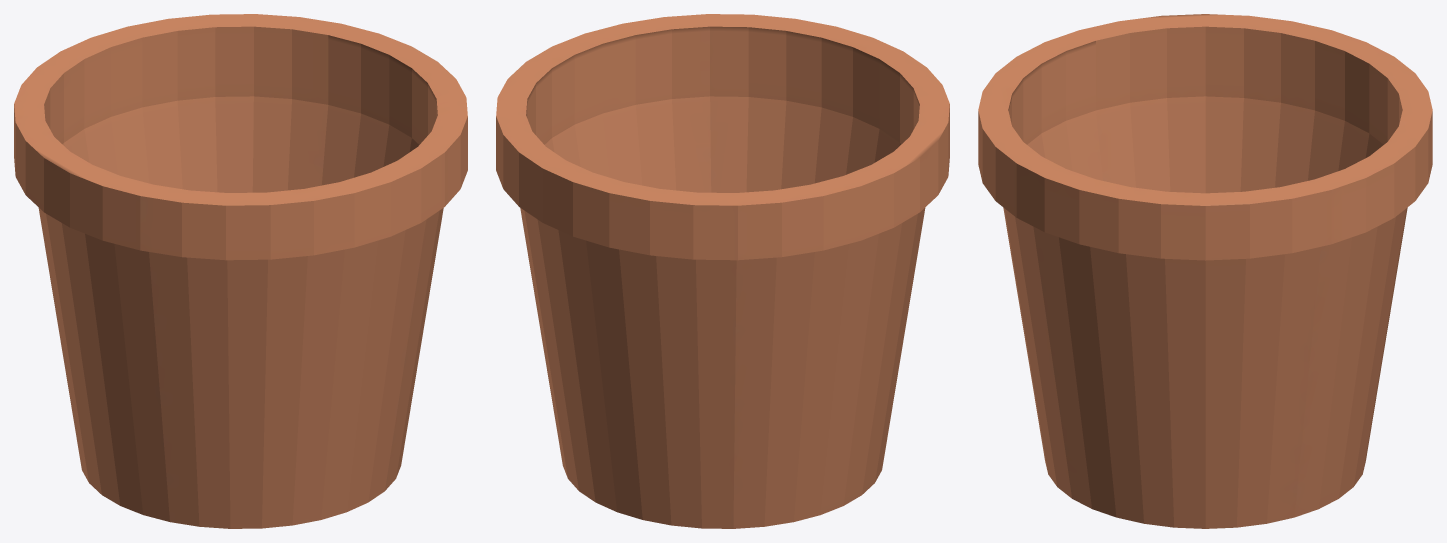
The model's file is potcprsd.glb.
3 views of the same model, side by side, from view 1: azimuth 30°, elevation 25°; view 2: azimuth 150°, elevation 25°; view 3: azimuth 270°, elevation 25° (orthographic).
Parts seen in each view (by area): view 1: Terracotta_Pot; view 2: Terracotta_Pot; view 3: Terracotta_Pot.
Boxes of the visible parts, x1,y1,x2,y2 form: Terracotta_Pot: (14, 14, 467, 528); Terracotta_Pot: (496, 14, 949, 528); Terracotta_Pot: (978, 14, 1432, 528).
Bounding box in the file's own units: 3.76 × 3.21 × 3.76.
1 material, 1 textured.
